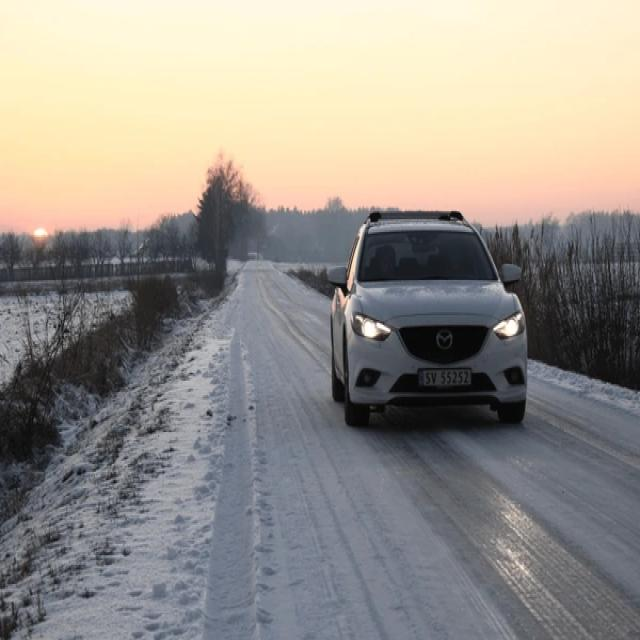mazda: (437, 331, 452, 350)
